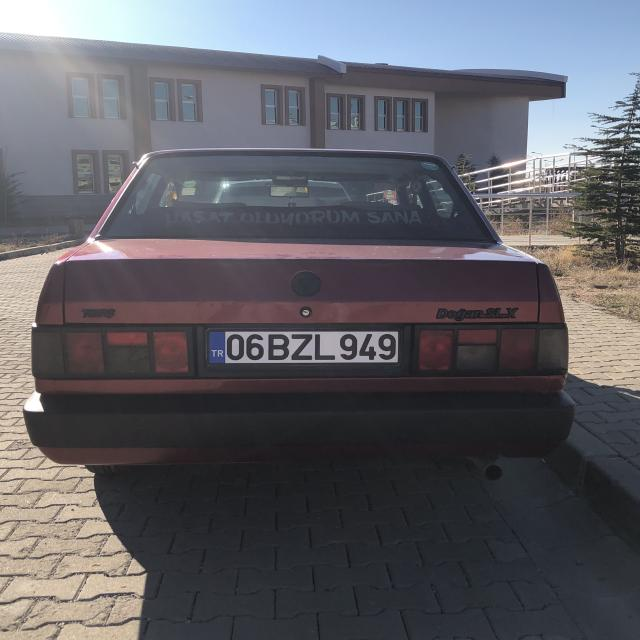license_plate: (208, 332, 400, 364)
